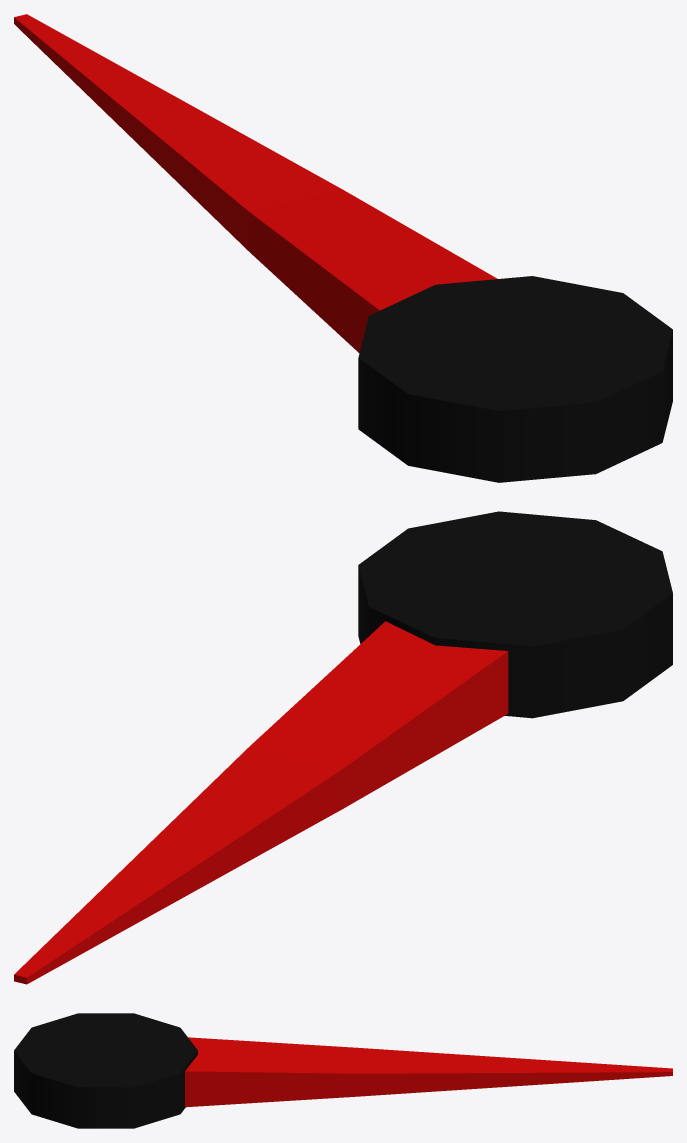
The model's file is Meter Needle.fbx.
The picture shows the model from 3 angles, top to bottom: view 1: azimuth 30°, elevation 25°; view 2: azimuth 150°, elevation 25°; view 3: azimuth 270°, elevation 25°; orthographic projection. The views are drawn at different scales.
Visible parts, largest first — view 1: Circle; view 2: Circle; view 3: Circle.
Boxes of the visible parts, x1,y1,x2,y2 form: Circle: (14, 14, 672, 482); Circle: (14, 511, 672, 984); Circle: (14, 1013, 672, 1128).
Bounding box in the file's own units: 190 × 716 × 49.23.
